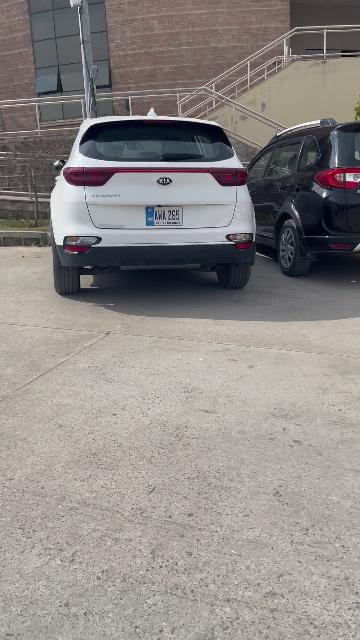plate: (147, 206, 182, 225)
